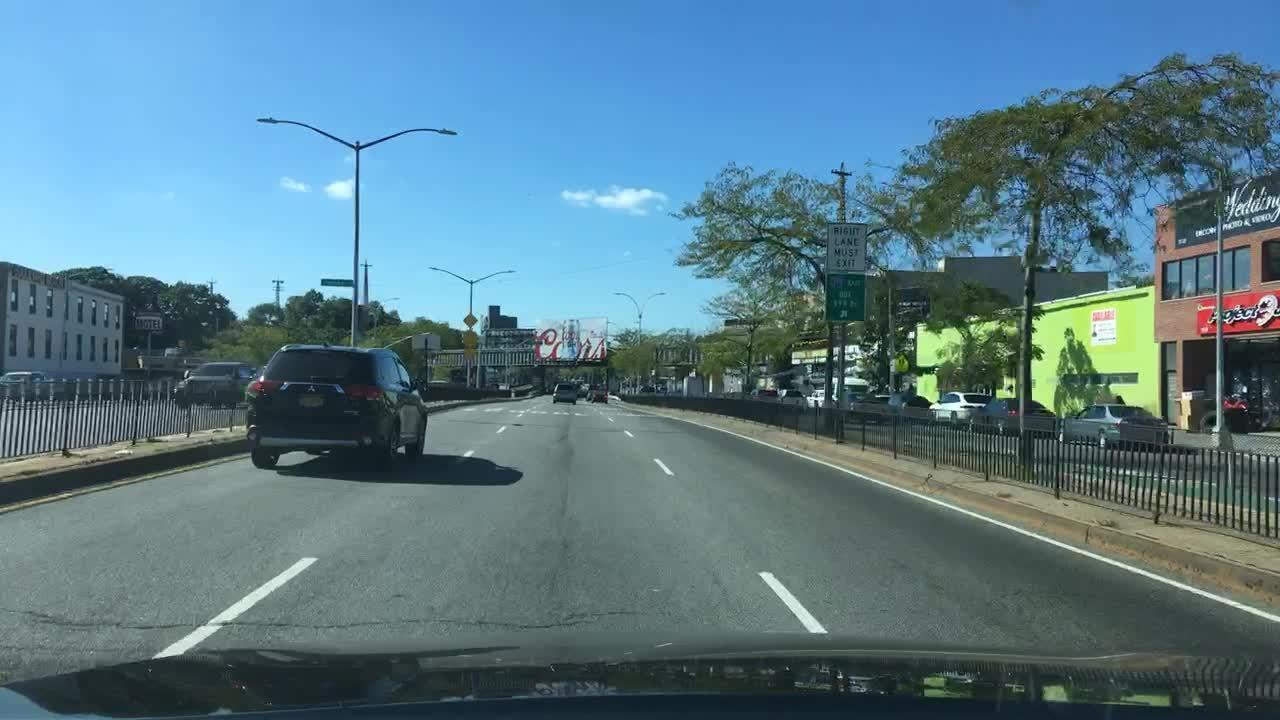Mitsubishi: (304, 382, 324, 399)
